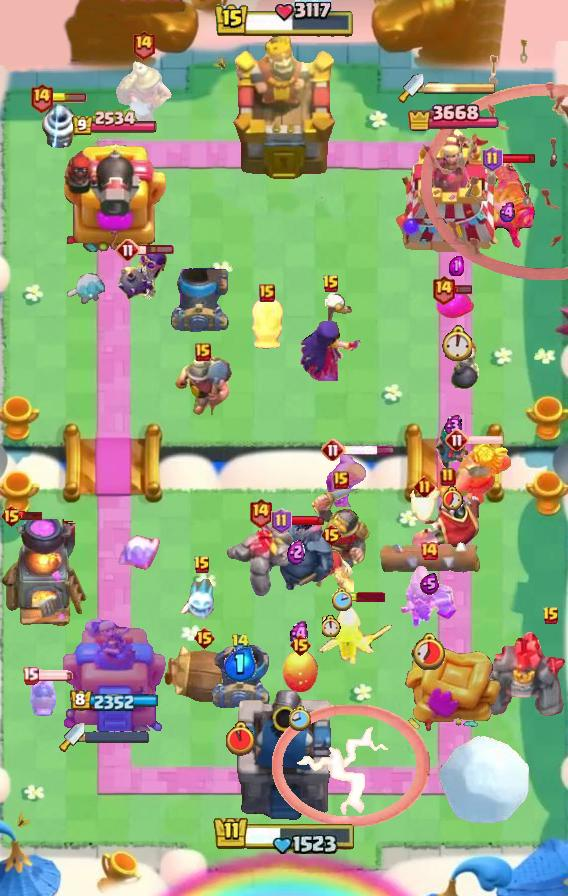bar: (343, 445, 396, 456), (36, 669, 74, 681), (467, 434, 504, 446), (138, 244, 175, 256), (289, 515, 325, 527), (500, 153, 537, 164), (8, 510, 44, 521), (349, 592, 385, 602), (51, 93, 87, 103), (454, 284, 473, 295)
bar-level: (248, 497, 273, 528), (431, 274, 456, 305), (29, 82, 54, 113), (131, 29, 156, 60), (321, 438, 345, 462), (445, 428, 469, 452), (116, 238, 140, 262), (289, 633, 312, 657), (193, 626, 216, 650), (320, 523, 343, 547), (0, 504, 23, 528), (271, 508, 292, 534), (482, 146, 503, 172), (414, 476, 435, 497), (419, 541, 439, 561), (231, 633, 250, 652), (542, 606, 560, 626), (193, 555, 211, 575), (322, 274, 340, 294), (22, 666, 39, 685), (440, 467, 456, 487), (333, 471, 349, 489), (195, 343, 211, 361), (259, 284, 275, 302)
barbarian: (325, 452, 369, 507)
barbarian-barrel: (162, 643, 246, 705)
bomber: (308, 550, 354, 592), (447, 339, 481, 393)
bomber-evolution: (116, 246, 170, 302)
cannoneer-tower: (60, 138, 168, 256)
clock: (411, 632, 448, 670), (441, 325, 472, 361), (226, 721, 255, 756), (289, 705, 312, 732), (331, 587, 352, 611), (443, 486, 463, 510), (322, 615, 341, 637)
dagger-duchess-tower: (394, 126, 512, 256), (62, 615, 167, 731)
dagger-duchess-tower-bar: (424, 81, 496, 95), (85, 731, 149, 743)
elixir: (224, 647, 257, 682), (288, 621, 312, 647), (287, 539, 305, 565), (444, 414, 463, 437), (498, 202, 518, 223), (420, 573, 439, 595), (449, 256, 464, 276)
elixir-golem-small: (436, 291, 476, 319)
firecracker-evolution: (480, 159, 536, 251)
golemite: (224, 526, 296, 598)
ice-spirit: (180, 579, 224, 625), (64, 271, 108, 309)
ice-spirit-evolution: (116, 532, 162, 574)
king-tower: (231, 34, 338, 181), (232, 686, 336, 826)
king-tower-bar: (212, 812, 356, 854), (213, 0, 355, 40)
knight: (312, 489, 370, 572)
lava-pup: (407, 486, 441, 524)
miner: (173, 350, 233, 420), (114, 56, 172, 126)
mortar: (210, 644, 270, 708), (169, 268, 229, 332)
phoenix-egg: (280, 650, 320, 694)
rascal-girl: (433, 422, 473, 472)
royal-hog: (249, 293, 285, 353), (28, 671, 58, 717)
the-log: (379, 541, 483, 575)
tower-bar: (407, 100, 499, 136), (71, 110, 158, 137), (70, 690, 159, 713)
valkyrie-evolution: (399, 565, 459, 631)
witch: (299, 293, 363, 381)
zappy: (38, 102, 82, 152)
